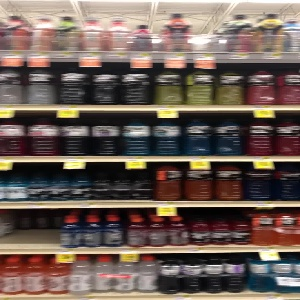void: (1, 204, 64, 252)
